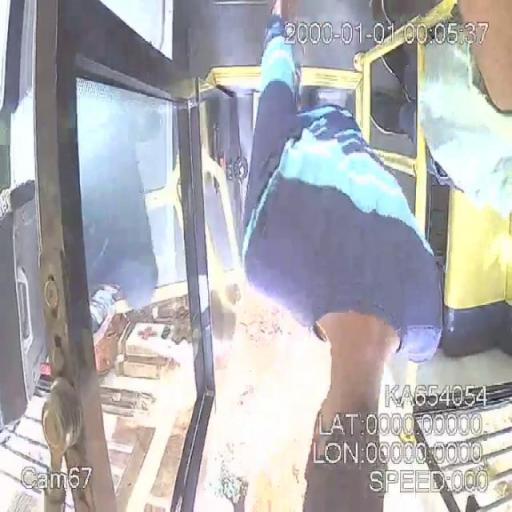persona: (239, 25, 445, 511)
